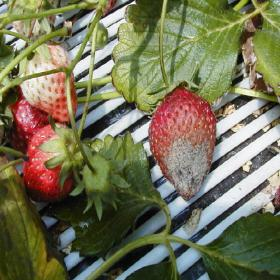Gray Mold: (148, 88, 217, 202)
